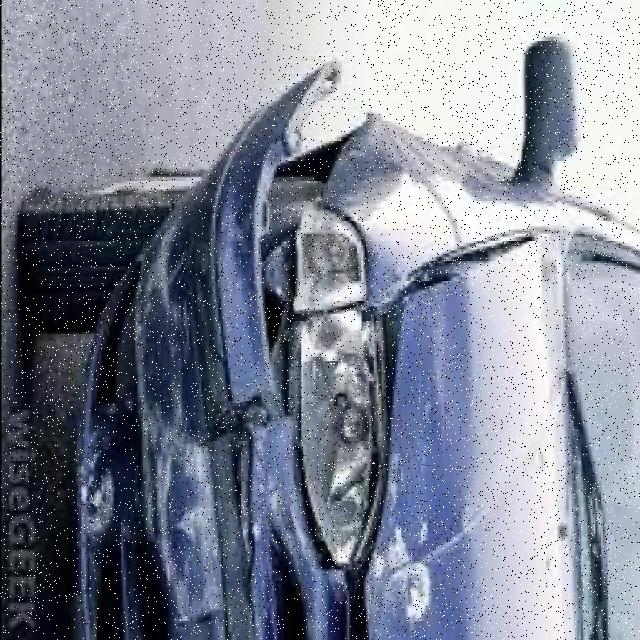damage: (69, 62, 440, 632)
